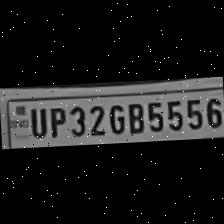2: (85, 100, 106, 136)
3: (65, 100, 86, 136)
5: (142, 96, 164, 132), (182, 94, 202, 128), (164, 94, 182, 130)
6: (202, 94, 222, 128)
B: (124, 97, 144, 132)
G: (105, 100, 126, 134)
P: (44, 103, 66, 137)
U: (24, 104, 46, 136)
